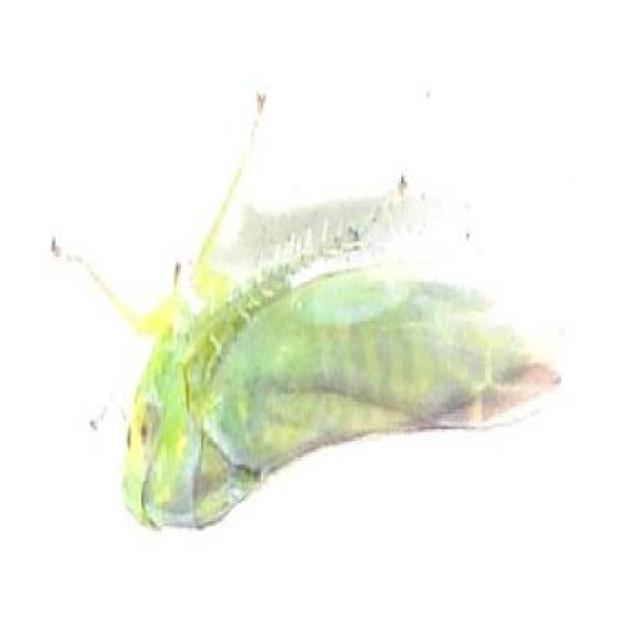green-leafhopper: (119, 236, 566, 521)
